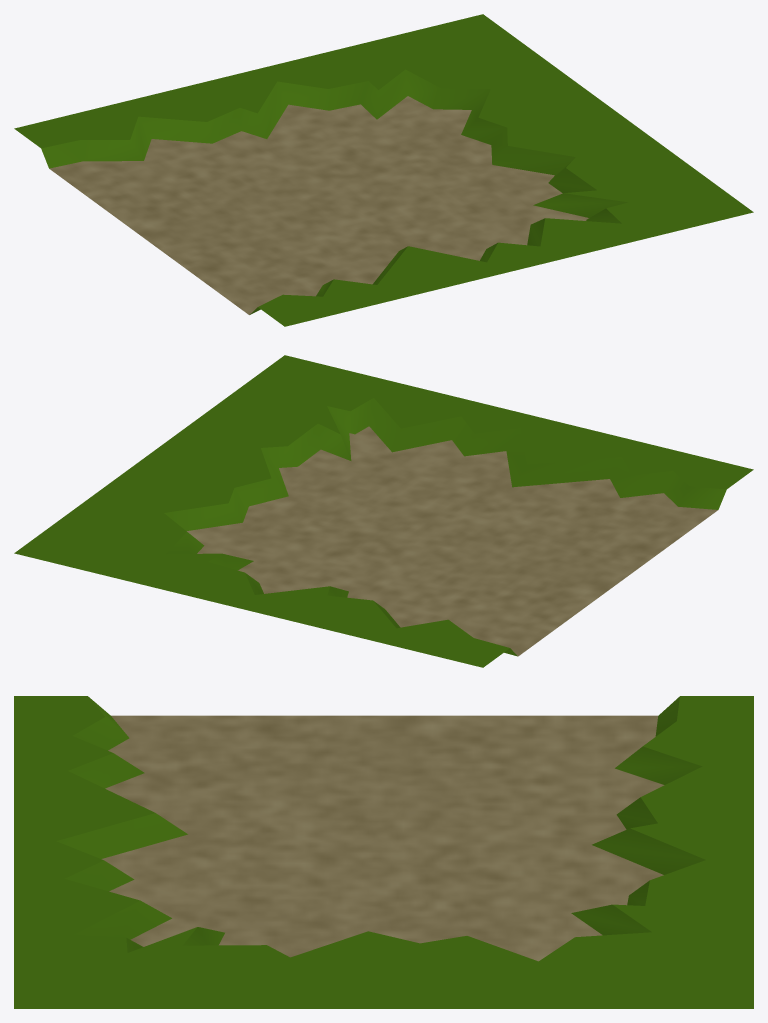
File: tile5.fbx
The picture shows the model from 3 angles, top to bottom: view 1: azimuth 30°, elevation 25°; view 2: azimuth 150°, elevation 25°; view 3: azimuth 270°, elevation 25°; orthographic projection. The views are drawn at different scales.
Visible parts, largest first — view 1: Plane.004; view 2: Plane.004; view 3: Plane.004.
Boxes of the visible parts, bbox=[...] form: Plane.004: bbox=[14, 14, 753, 326]; Plane.004: bbox=[14, 355, 753, 667]; Plane.004: bbox=[14, 696, 753, 1008].
Bounding box in the file's own units: 100 × 2.94 × 100.
